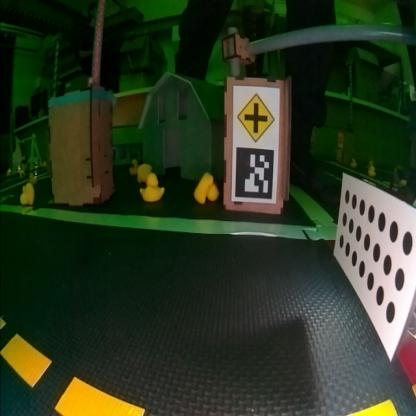Duckie: (195, 172, 218, 204), (141, 174, 165, 200), (20, 182, 36, 206), (138, 162, 152, 182), (130, 158, 139, 174), (368, 166, 376, 176), (351, 158, 357, 166)
Duckiebot: (334, 170, 416, 386)
Intersection sign: (237, 89, 277, 142)
QR code: (236, 146, 274, 200)
